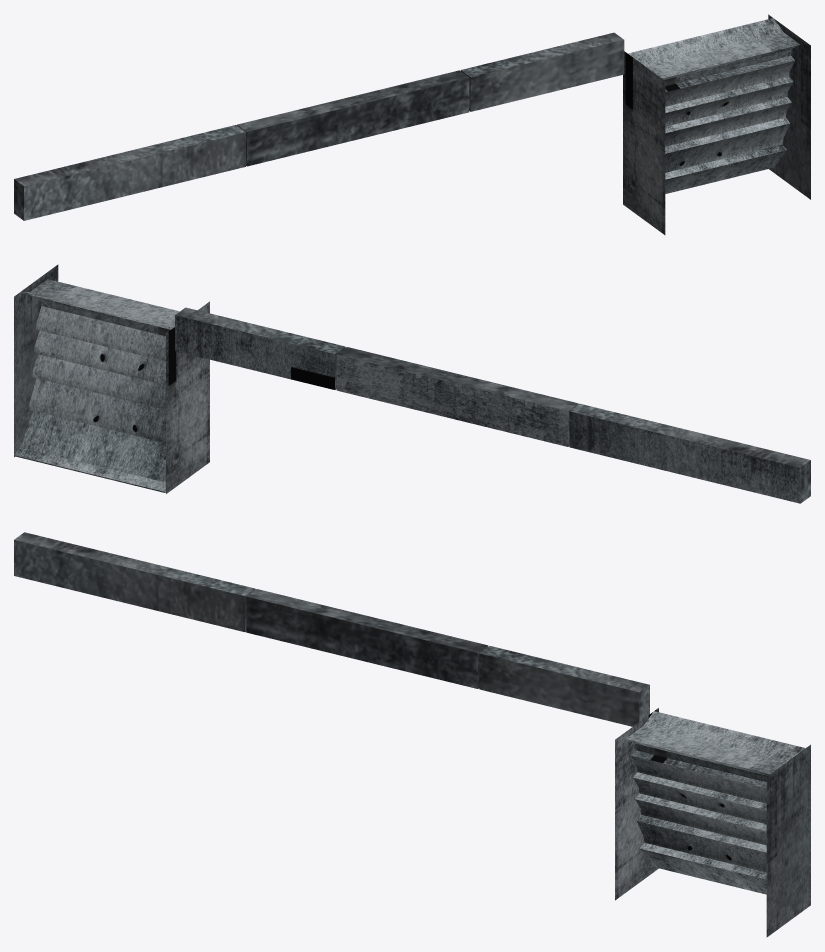
File: store_100.obj
3 renders of one model, top to bottom at view 1: azimuth 30°, elevation 25°; view 2: azimuth 150°, elevation 25°; view 3: azimuth 330°, elevation 25°, orthographic. The views are drawn at different scales.
Size of the model in its own units: 469 by 104 by 45.88.
